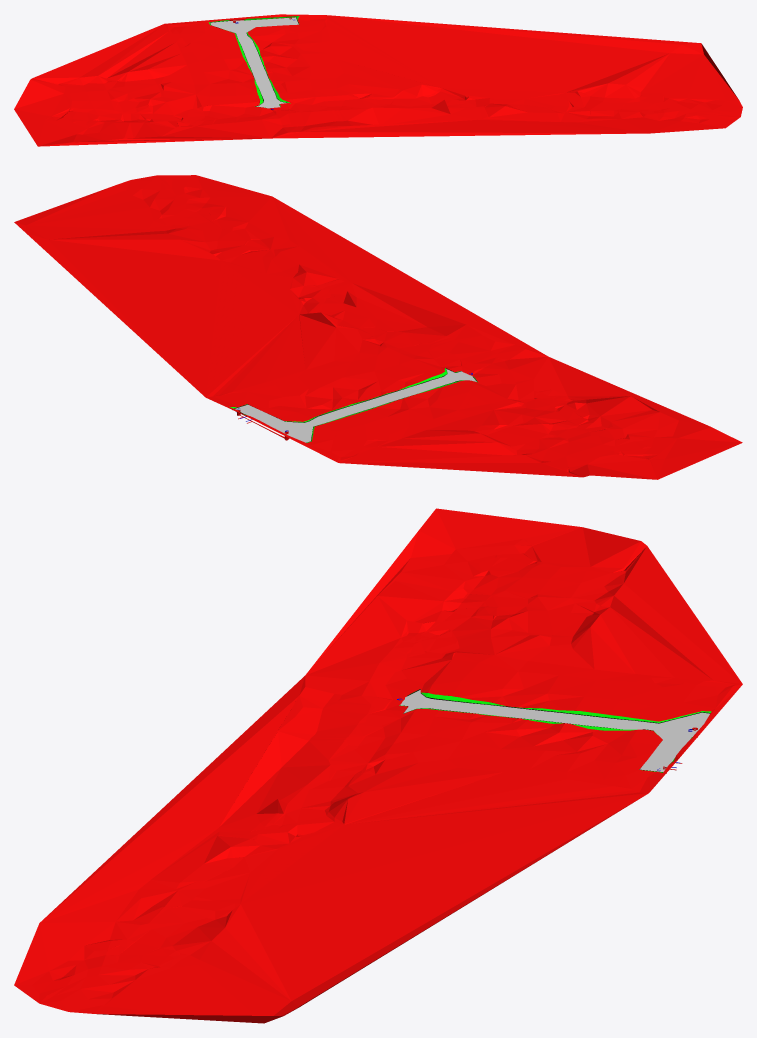
File: vrd.glb
The picture shows the model from 3 angles, top to bottom: view 1: azimuth 30°, elevation 25°; view 2: azimuth 150°, elevation 25°; view 3: azimuth 270°, elevation 25°; orthographic projection. The views are drawn at different scales.
Parts seen in each view (by area): view 1: Fake; view 2: Fake; view 3: Fake.
Part boxes in pixels (<box>): Fake: <box>14,14,742,146</box>; Fake: <box>14,175,742,479</box>; Fake: <box>14,508,742,1023</box>.
Size of the model in its own units: 295 by 13.53 by 186.
